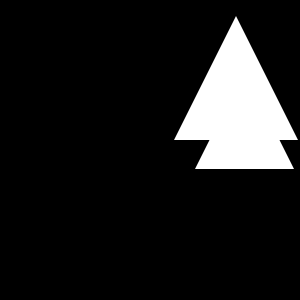triangle: (174, 16, 298, 140), (195, 70, 294, 169)
